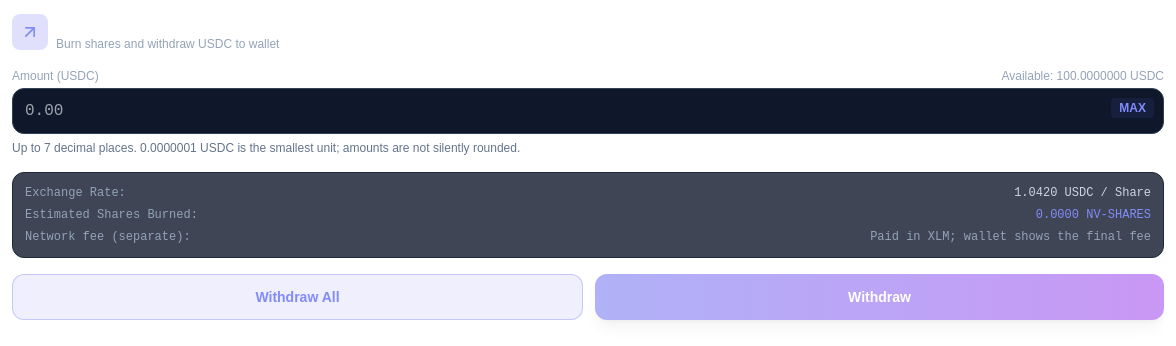
WithdrawForm Component Tests › validates input and disables partial withdraw on invalid amount or amount exceeding balance
Exceeding balance
Type "150" into the number field named "withdraw amount" at [588, 111], box [12,88,1164,134]
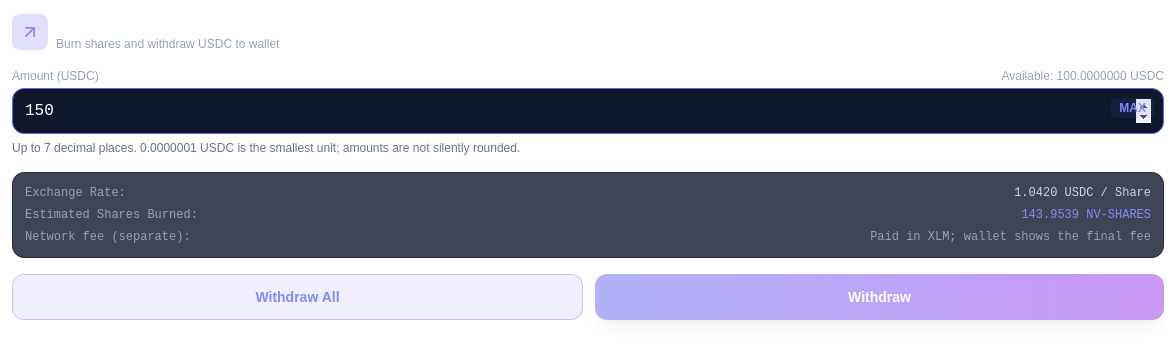
Check: the button with aria-label "confirm withdraw" is disabled, box [595,274,1164,320]
Check: the number field named "withdraw amount" is marked as invalid
Negative / Zero
Replace the text in the number field named "withdraw amount" with "0" at [588, 111], box [12,88,1164,134]
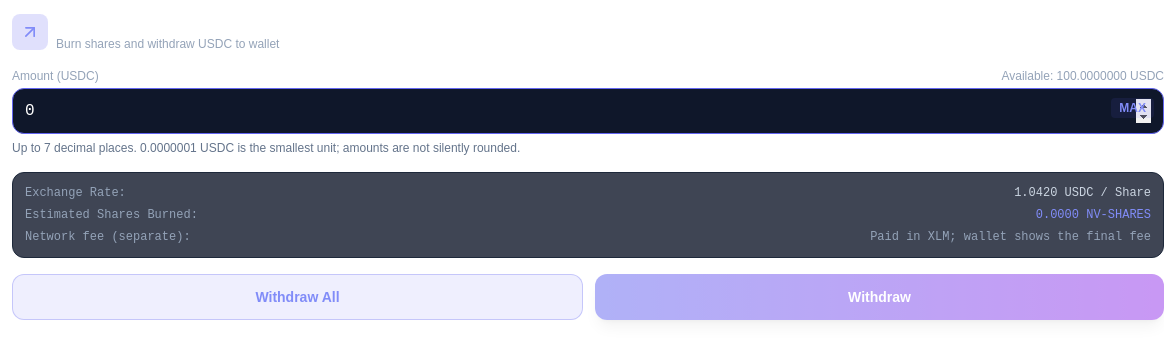
Check: the button with aria-label "confirm withdraw" is disabled, box [595,274,1164,320]
Valid partial
Replace the text in the number field named "withdraw amount" with "50" at [588, 111], box [12,88,1164,134]
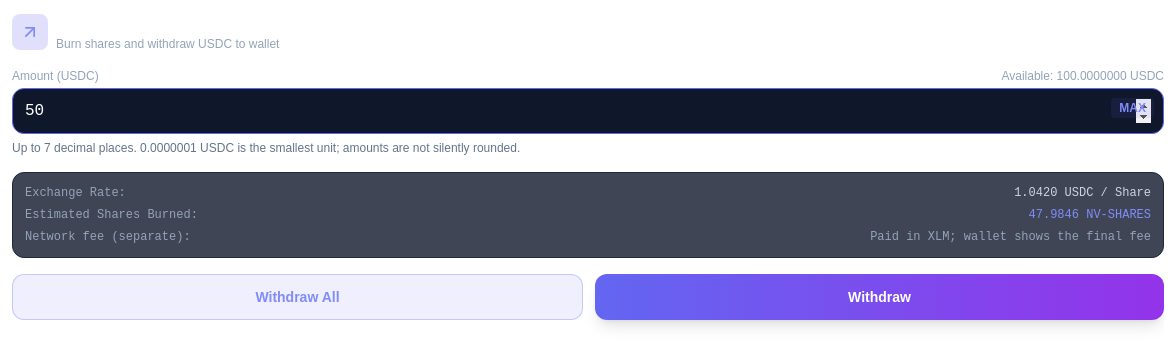
Check: the button with aria-label "confirm withdraw" is enabled, box [595,274,1164,320]
